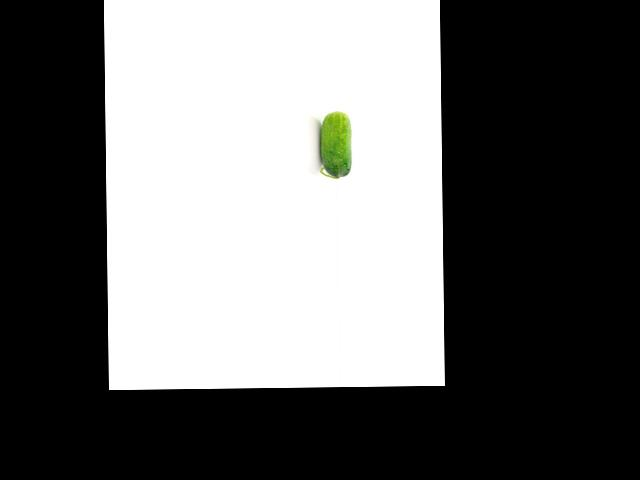cucumber: (318, 110, 351, 178)
